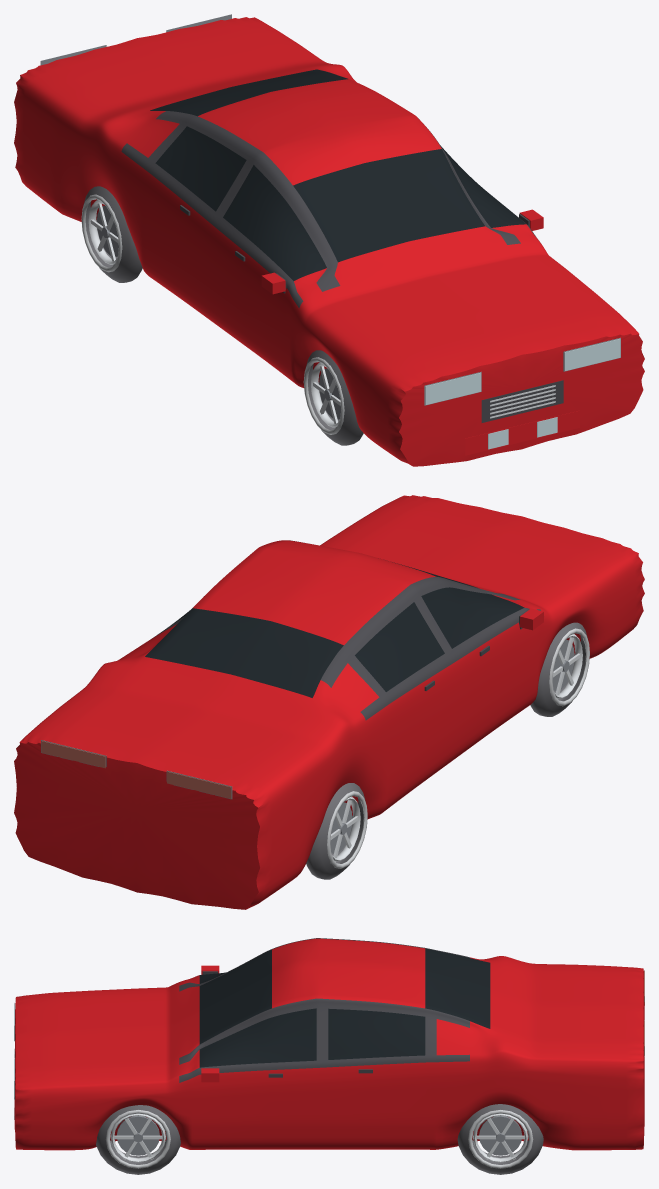
File: Sedan_Mid_A_22.fbx
3 renders of one model, top to bottom at view 1: azimuth 30°, elevation 25°; view 2: azimuth 150°, elevation 25°; view 3: azimuth 270°, elevation 25°, orthographic. The views are drawn at different scales.
Visible parts, largest first — view 1: LOD0; view 2: LOD0; view 3: LOD0.
Boxes of the visible parts, x1,y1,x2,y2 form: LOD0: [14, 14, 644, 466]; LOD0: [14, 495, 644, 909]; LOD0: [14, 938, 644, 1174].
Size of what is drawn, in the model's own units: 199 by 144 by 491.
